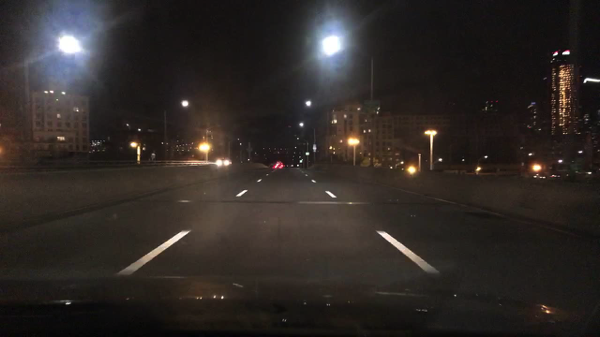car: (214, 156, 233, 168), (289, 162, 296, 169), (271, 164, 279, 170), (278, 164, 285, 169)
traffic sign: (362, 99, 380, 108), (312, 142, 317, 154), (305, 151, 310, 159), (298, 159, 304, 165)
